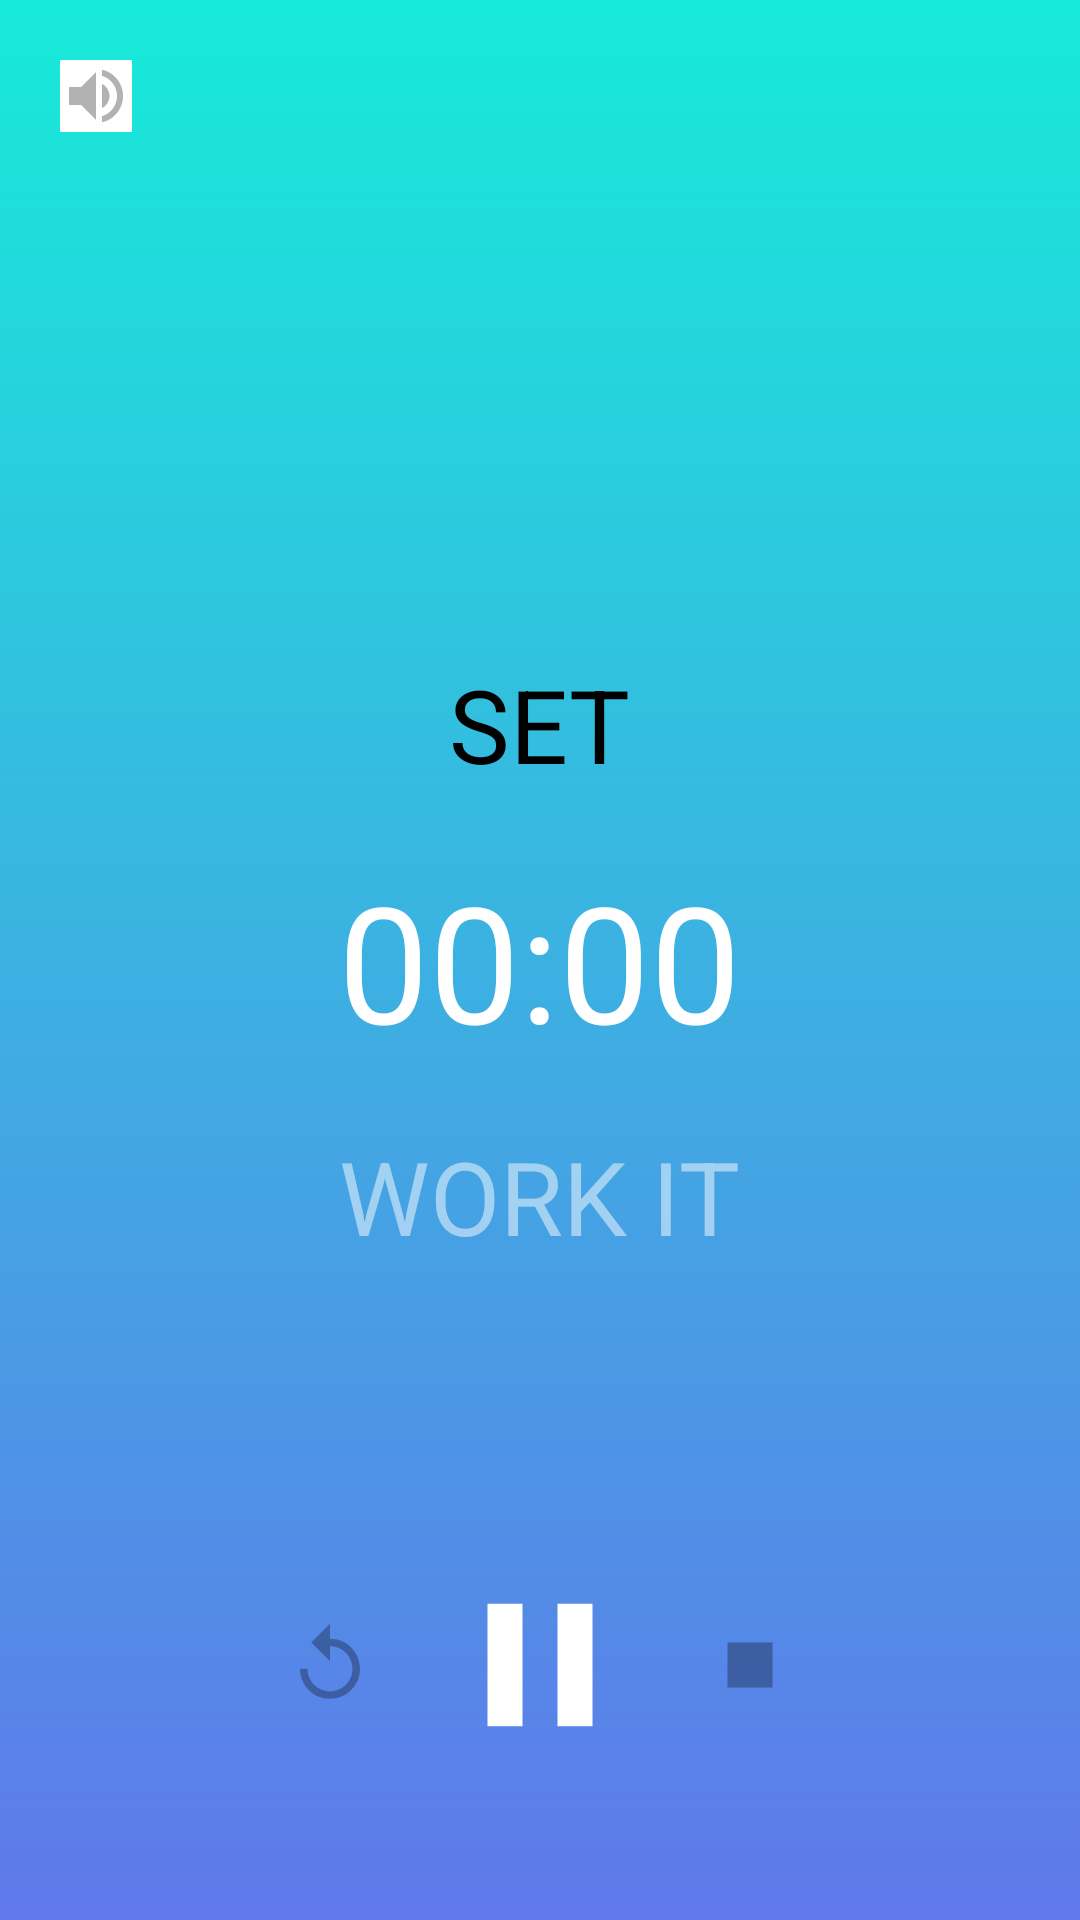

Named icons in this screenshot (1080px×1920px) and their bounding boxes, (x1, y1, x2, y2):
pause: (487, 1603, 593, 1727)
replay: (300, 1624, 360, 1699)
sound off or on: (60, 60, 132, 132)
stop: (727, 1642, 773, 1688)
